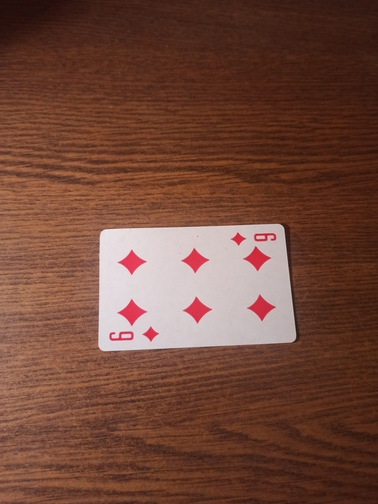sixdiamonds: (95, 224, 297, 352)
